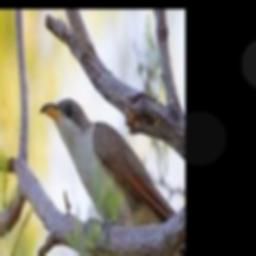Cuckoo: (41, 98, 177, 232)
